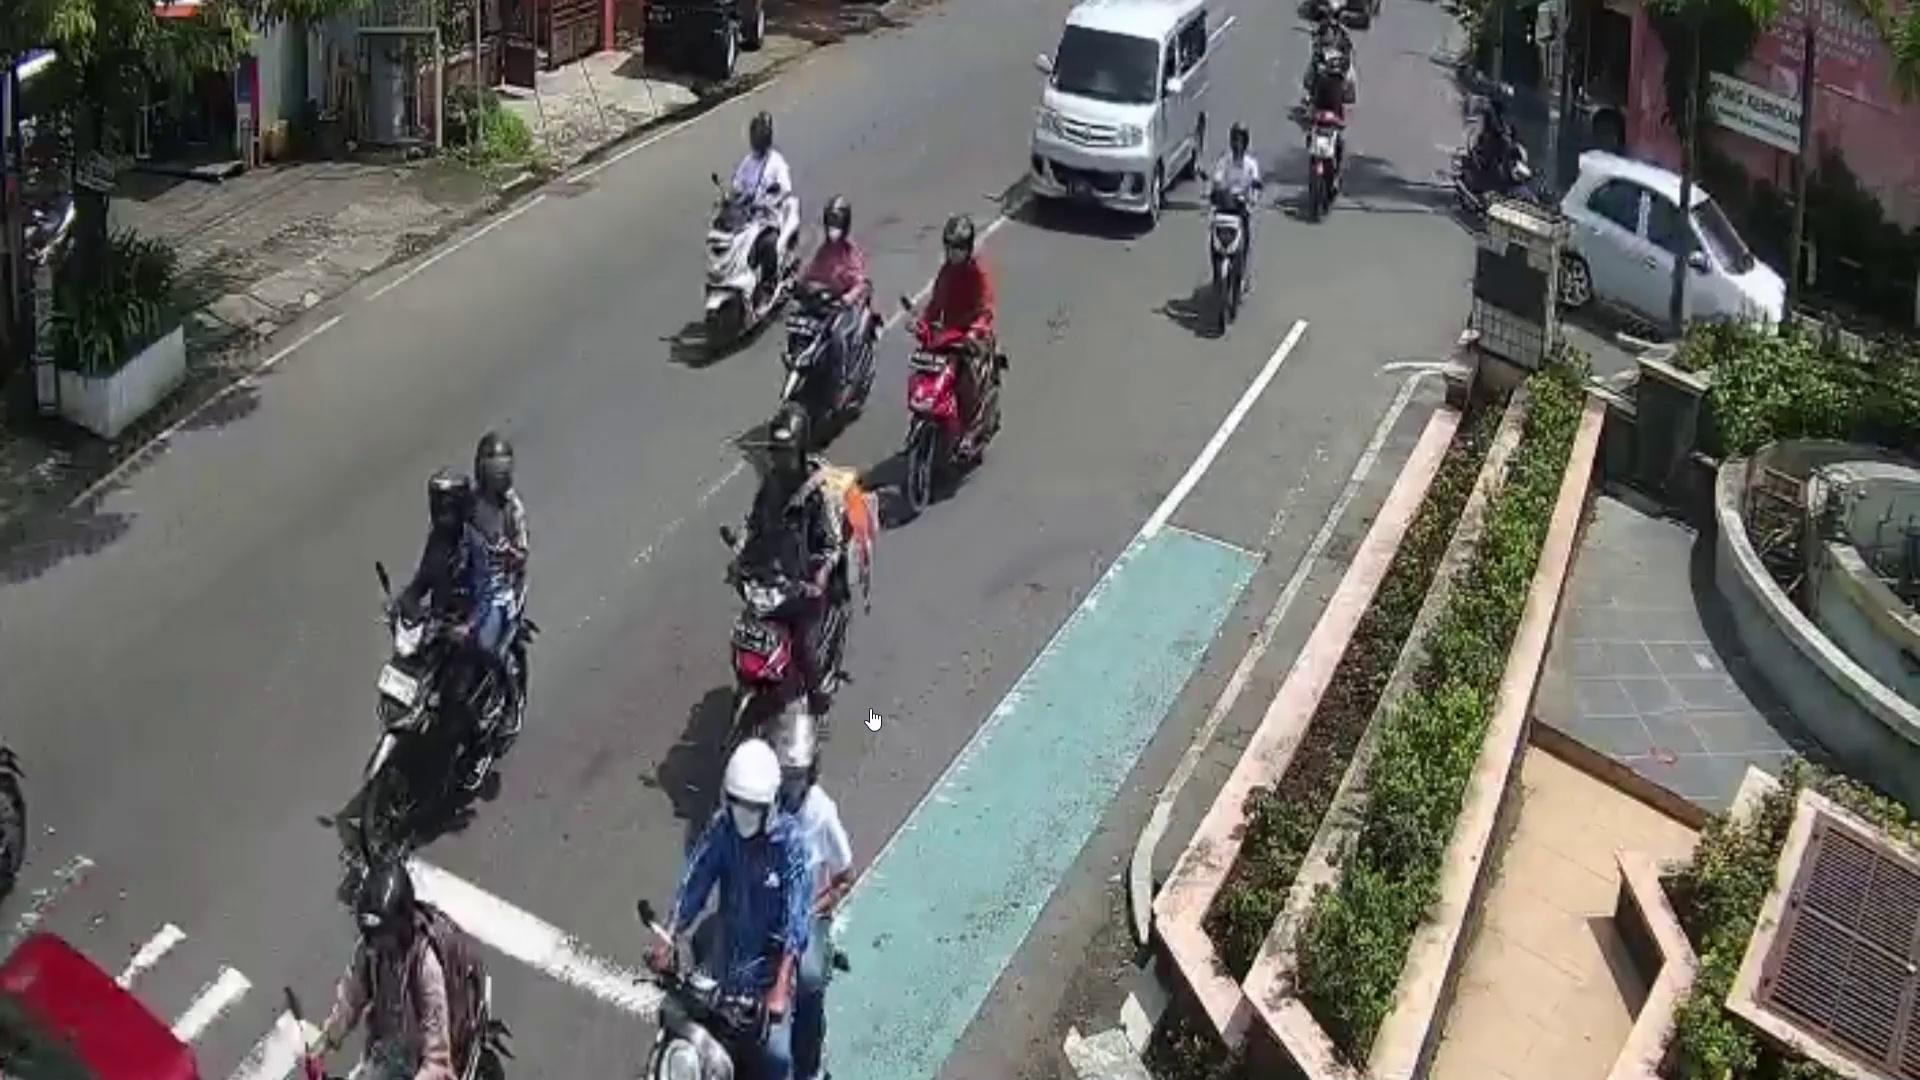car: (1557, 144, 1795, 347), (1023, 0, 1218, 225)
motorbike: (345, 567, 530, 833), (903, 314, 1004, 495), (698, 182, 799, 352), (713, 564, 811, 735), (779, 282, 872, 410), (1456, 125, 1543, 248), (1197, 183, 1250, 336), (1300, 102, 1346, 223)
